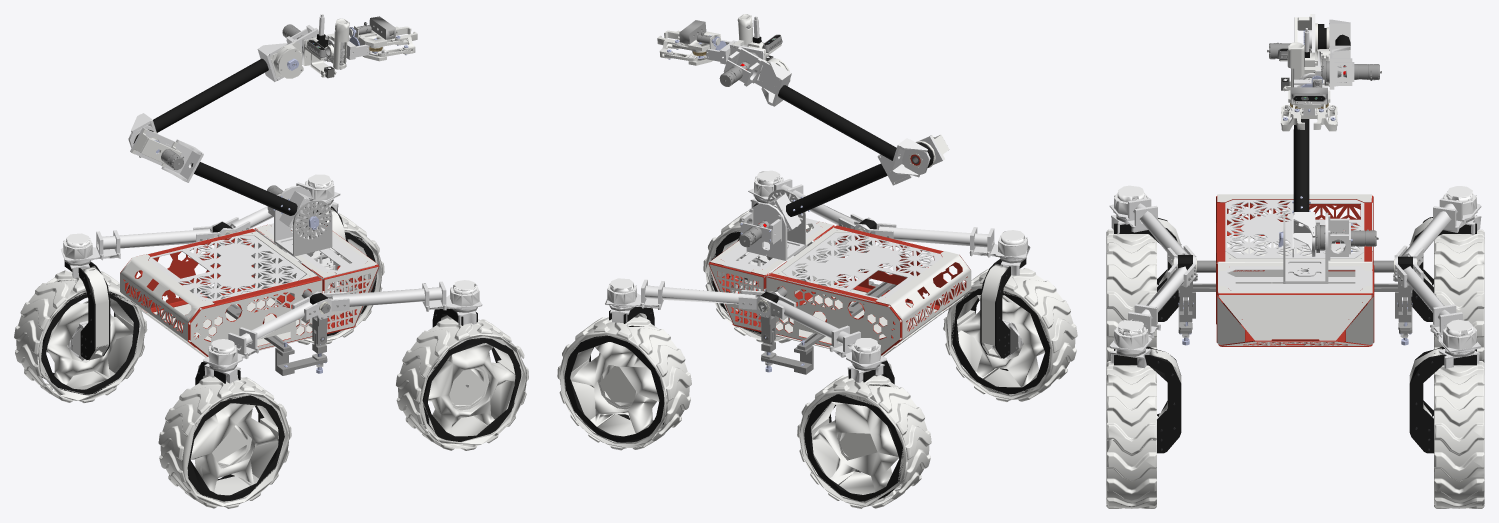
The model's file is ares-x.glb.
3 views of the same model, side by side, from view 1: azimuth 30°, elevation 25°; view 2: azimuth 150°, elevation 25°; view 3: azimuth 270°, elevation 25° (orthographic). The views are drawn at different scales.
Parts seen in each view (by area): view 1: Exterior 2; view 2: Exterior 2; view 3: Exterior 2, Exterior 8.
Boxes of the visible parts, x1=… form: Exterior 2: x1=14, y1=14, x2=528, y2=508; Exterior 2: x1=557, y1=14, x2=1077, y2=508; Exterior 2: x1=1106, y1=14, x2=1484, y2=508; Exterior 8: x1=1284, y1=87, x2=1328, y2=108.
Bounding box in the file's own units: 1.9 × 2 × 1.56.
